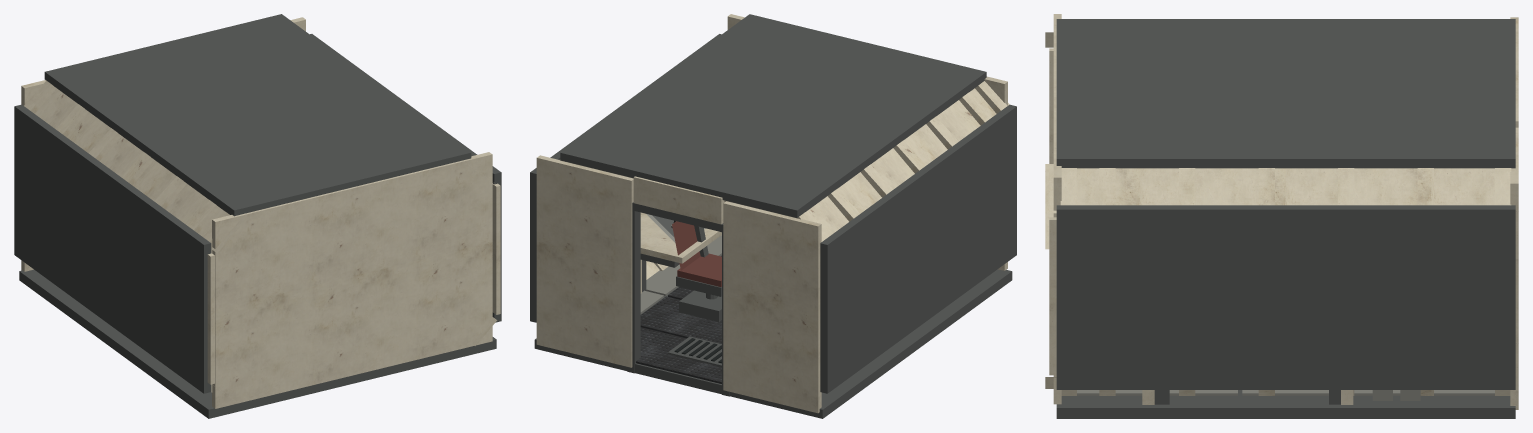
The model's file is radio_room_study_v1.glb.
3 renders of one model, left to right at view 1: azimuth 30°, elevation 25°; view 2: azimuth 150°, elevation 25°; view 3: azimuth 270°, elevation 25°, orthographic. The views are drawn at different scales.
Visible parts, largest first — view 1: dark_structural_metal, paint_dirty_ivory; view 2: dark_structural_metal, paint_dirty_ivory, tread_floor, seat_vinyl, exposed_edges, deep_recess; view 3: dark_structural_metal, paint_dirty_ivory, exposed_edges.
Part boxes in pixels (x1=…): dark_structural_metal: x1=14, y1=14, x2=501, y2=418; paint_dirty_ivory: x1=21, y1=17, x2=500, y2=408; dark_structural_metal: x1=530, y1=14, x2=1016, y2=418; paint_dirty_ivory: x1=536, y1=14, x2=1009, y2=413; tread_floor: x1=636, y1=256, x2=721, y2=383; seat_vinyl: x1=672, y1=221, x2=721, y2=286; exposed_edges: x1=640, y1=214, x2=721, y2=313; deep_recess: x1=674, y1=338, x2=721, y2=363; dark_structural_metal: x1=1056, y1=19, x2=1515, y2=418; paint_dirty_ivory: x1=1045, y1=14, x2=1518, y2=409; exposed_edges: x1=1077, y1=390, x2=1494, y2=400.
Bounding box in the file's own units: 4.08 × 2.65 × 4.64.
Materials: 11 (3 with a texture image).
